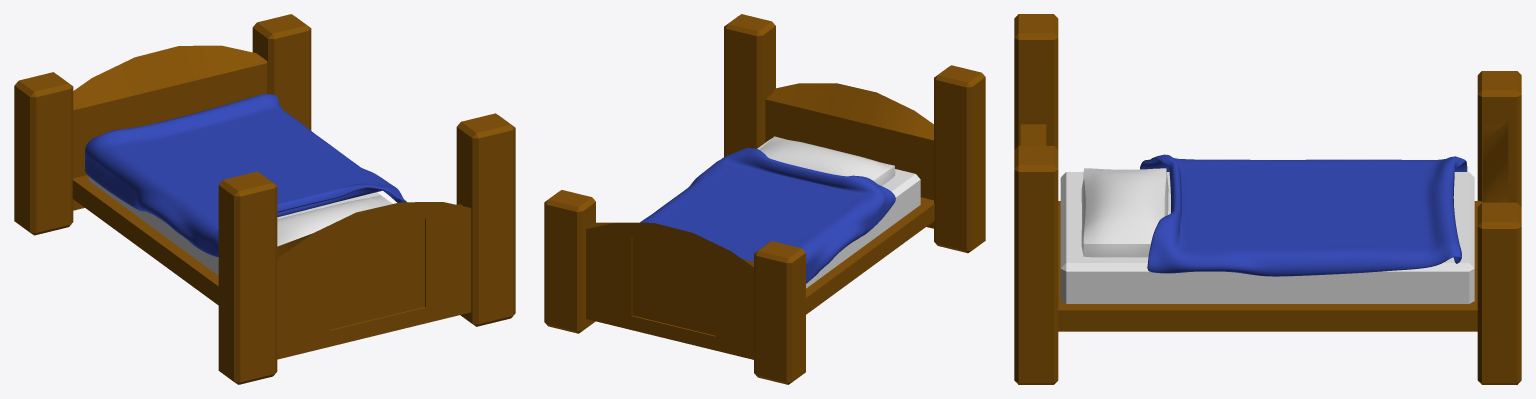
File: Bed3D.fbx
The picture shows the model from 3 angles, left to right: view 1: azimuth 30°, elevation 25°; view 2: azimuth 150°, elevation 25°; view 3: azimuth 270°, elevation 25°; orthographic projection. The views are drawn at different scales.
Parts seen in each view (by area): view 1: pCube10; view 2: pCube10; view 3: pCube10.
Part boxes in pixels (x1,y1,x2,y2): pCube10: (14,14,515,384); pCube10: (544,14,985,384); pCube10: (1014,14,1521,384).
Bounding box in the file's own units: 111 × 73.13 × 153.
